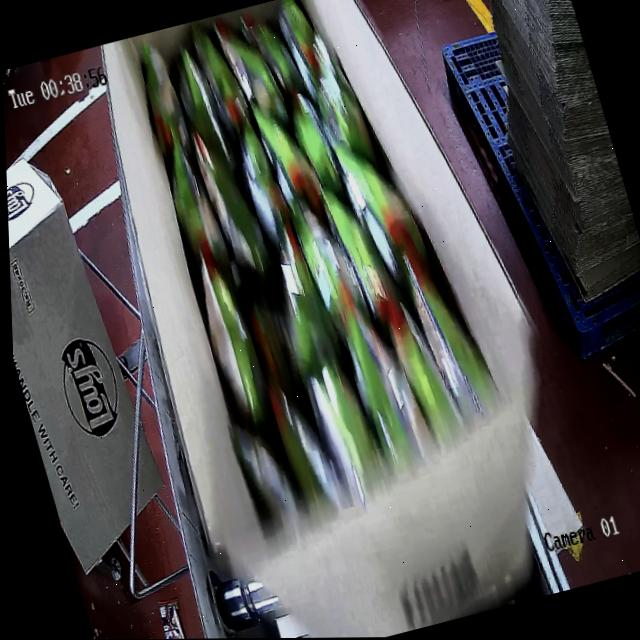YOGURT_HERB: (113, 0, 491, 504)
